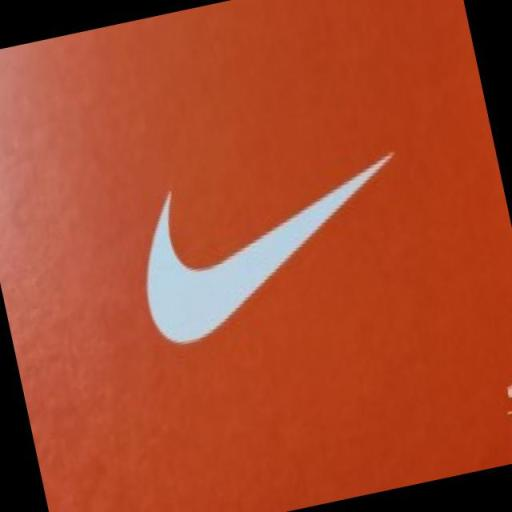Nike: (117, 134, 430, 358)
